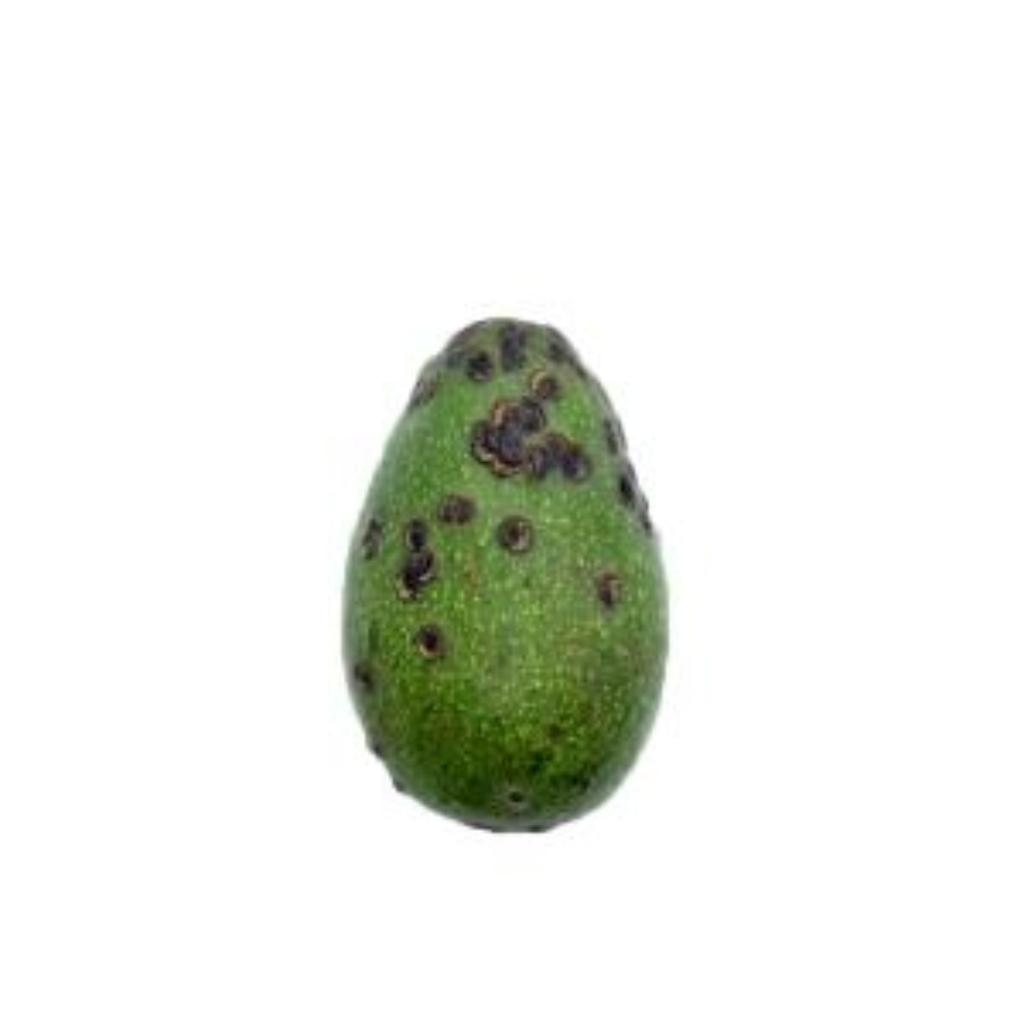cercospora: (336, 305, 681, 841)
